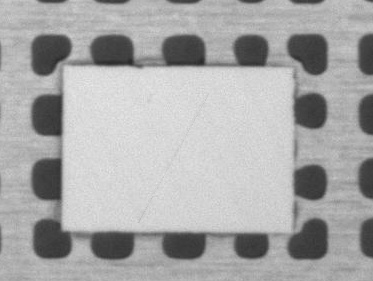DIE_CRACK: (183, 71, 276, 167)
